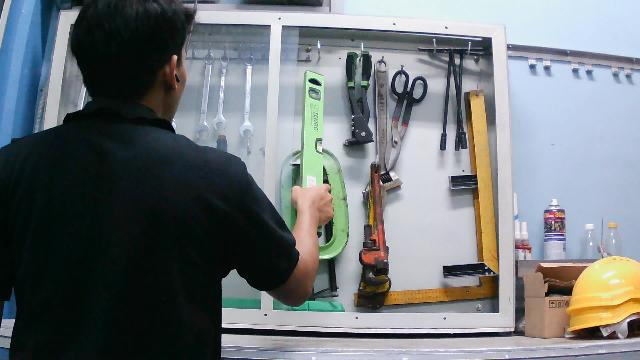water_pass: (296, 65, 327, 241)
